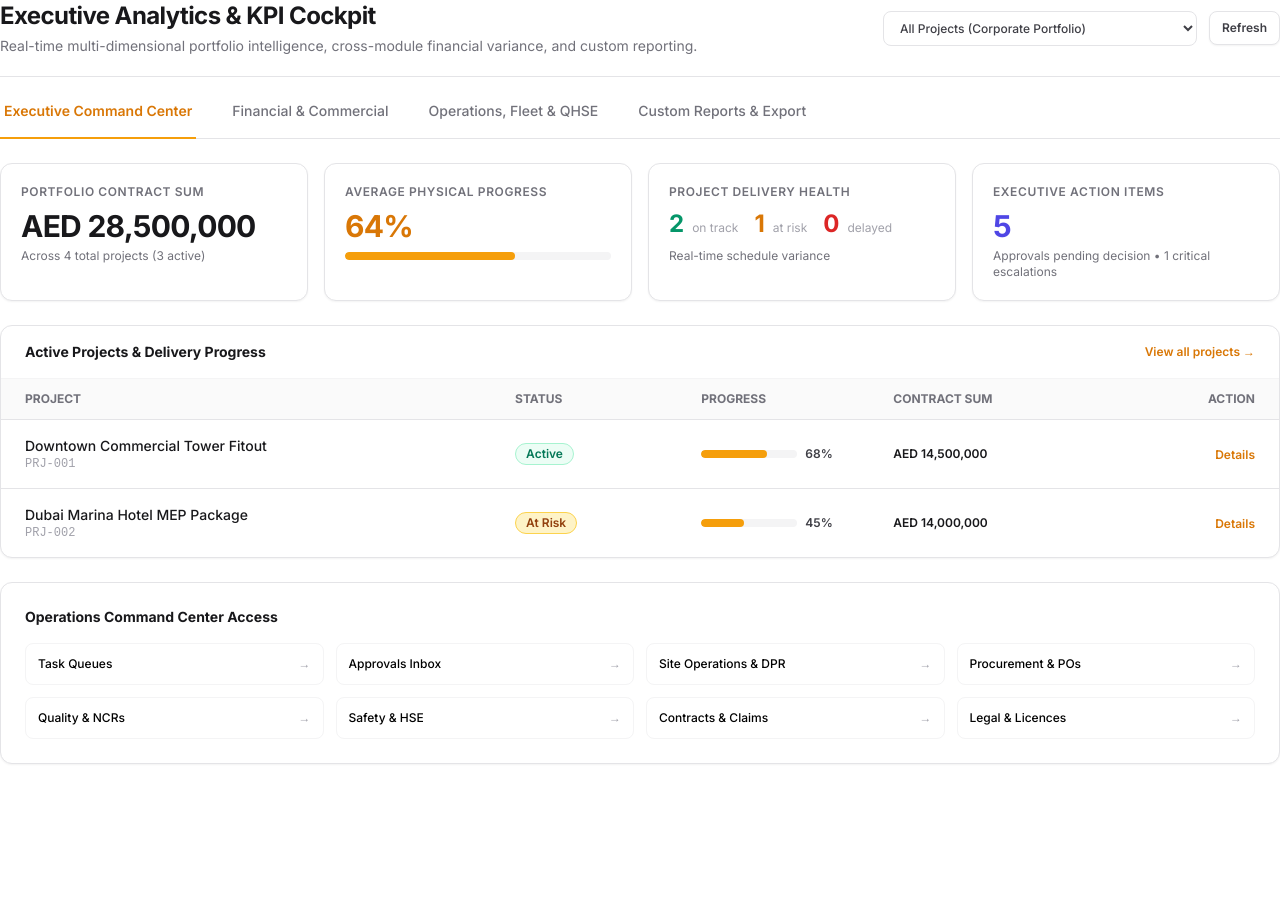
Test case: DashboardPage › navigates to Custom Reports tab and allows generating and saving reports
What coordinates should you click on to do the following:
click the button "Custom Reports & Export"
I would click on:
 (722, 120)
Its box is [634, 101, 810, 139].
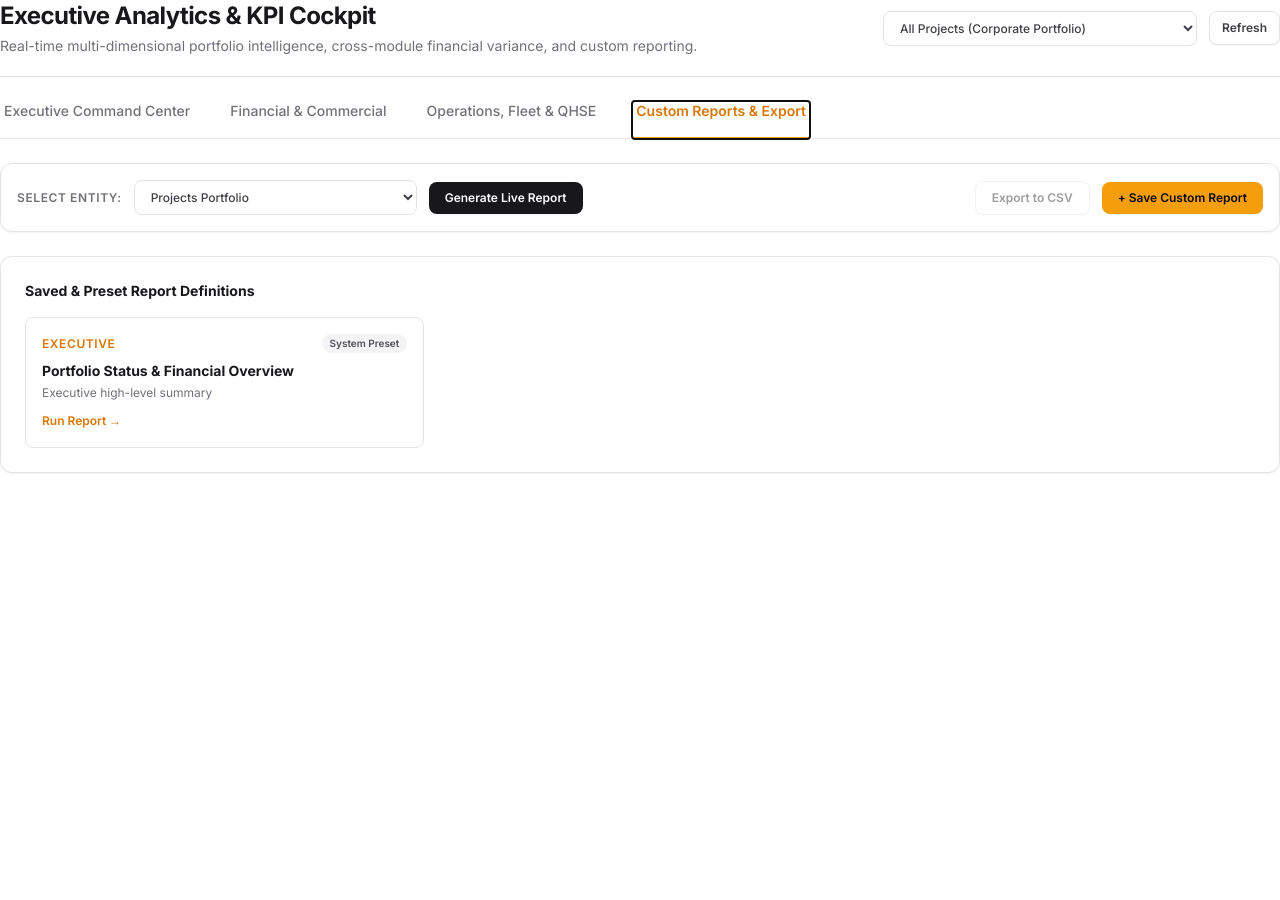
Result: the heading "Portfolio Status & Financial Overview" is shown at [42, 362, 294, 379]
What coordinates should you click on to do the following:
click the button "Generate Live Report"
I would click on:
 (506, 198)
Its box is [429, 182, 583, 214].
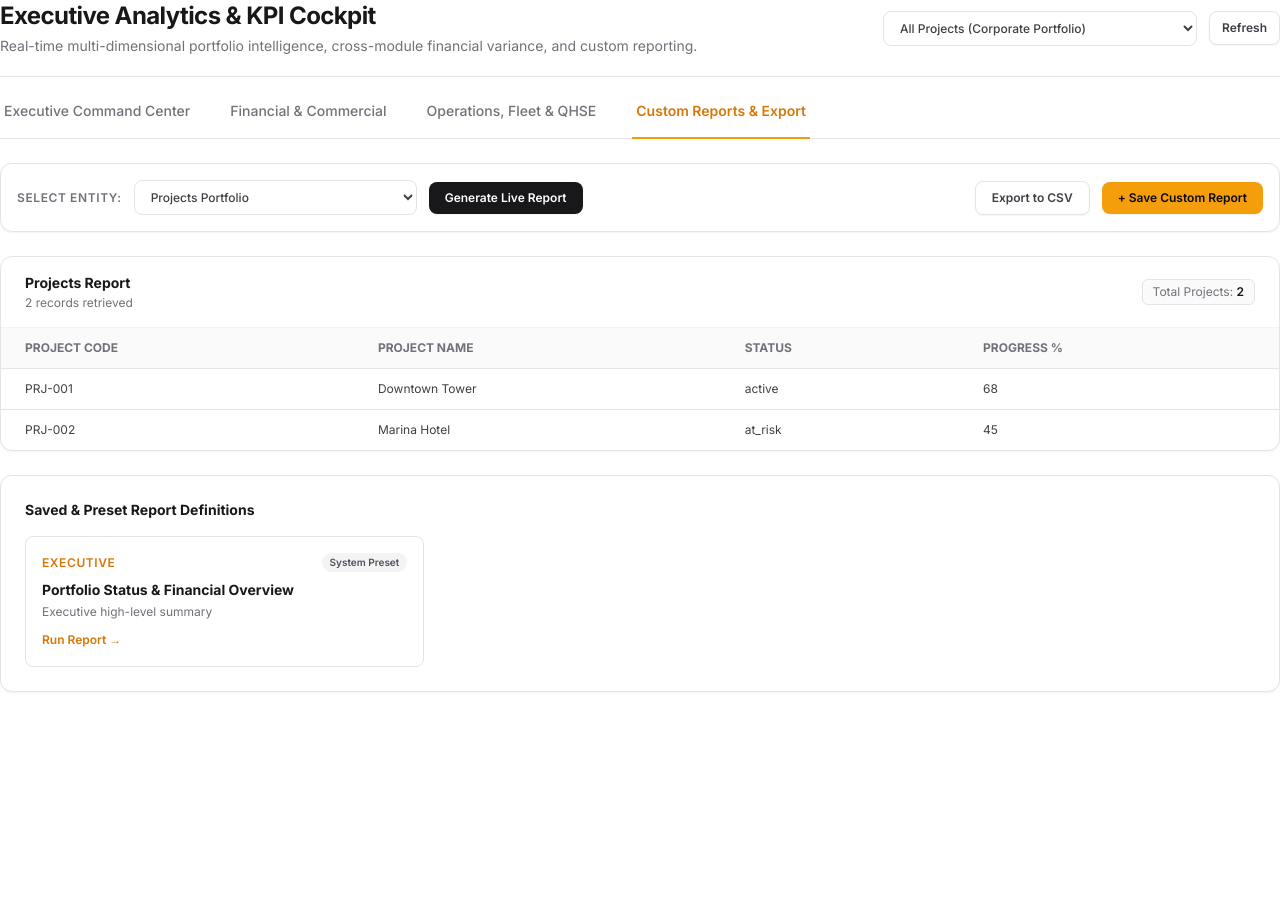
Result: the button "Export to CSV" is shown at [975, 180, 1090, 214]
Result: the text "Downtown Tower" is shown at [354, 368, 721, 410]
Result: the text "Marina Hotel" is shown at [354, 410, 721, 450]
Open Save modal
What coordinates should you click on to do the following:
click the button "+ Save Custom Report"
I would click on:
 (1182, 198)
Its box is [1102, 182, 1263, 214].
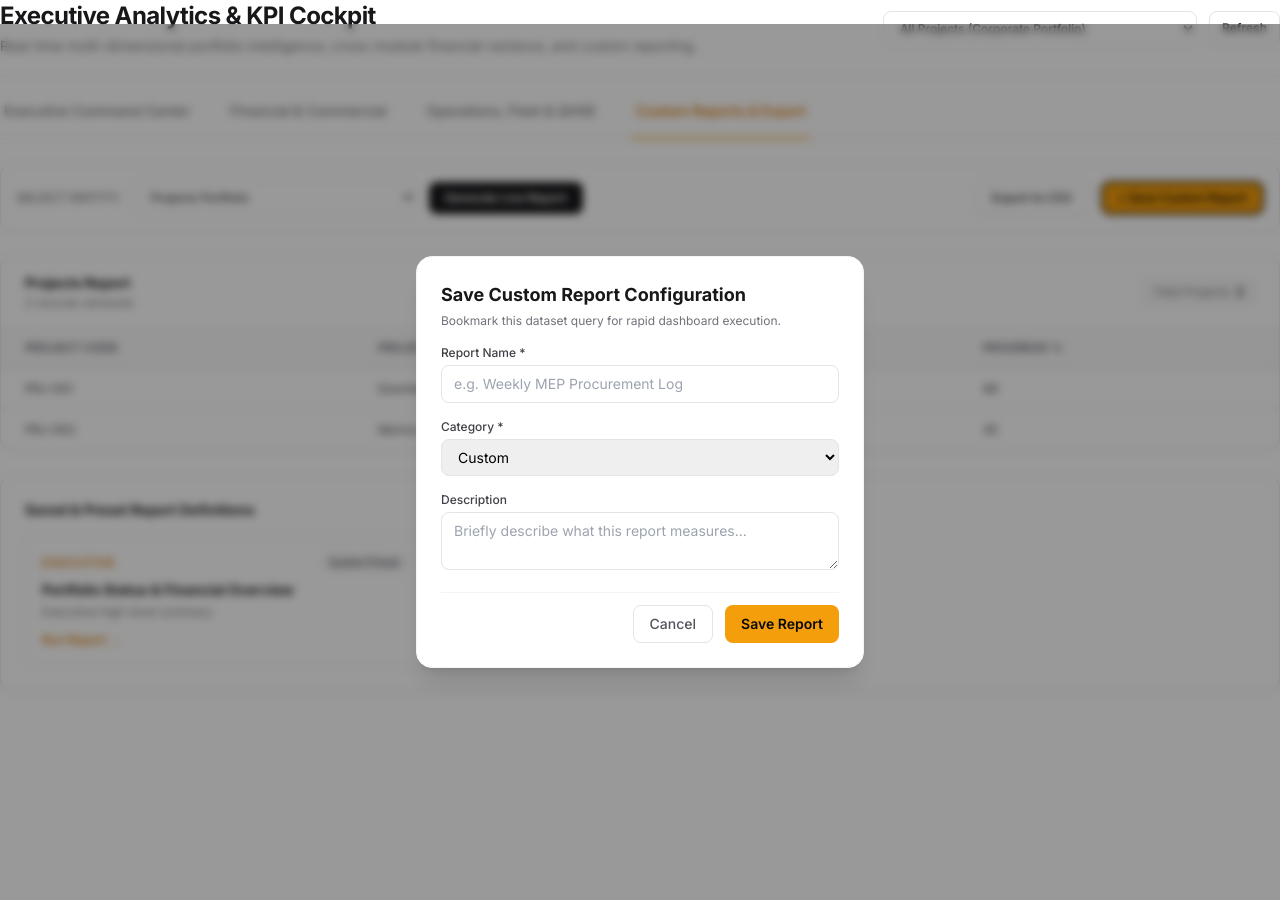
Result: the heading "Save Custom Report Configuration" is shown at [441, 284, 746, 305]
What coordinates should you click on to do the following:
click the button "Cancel"
I would click on:
 (673, 624)
Its box is [633, 605, 713, 643].
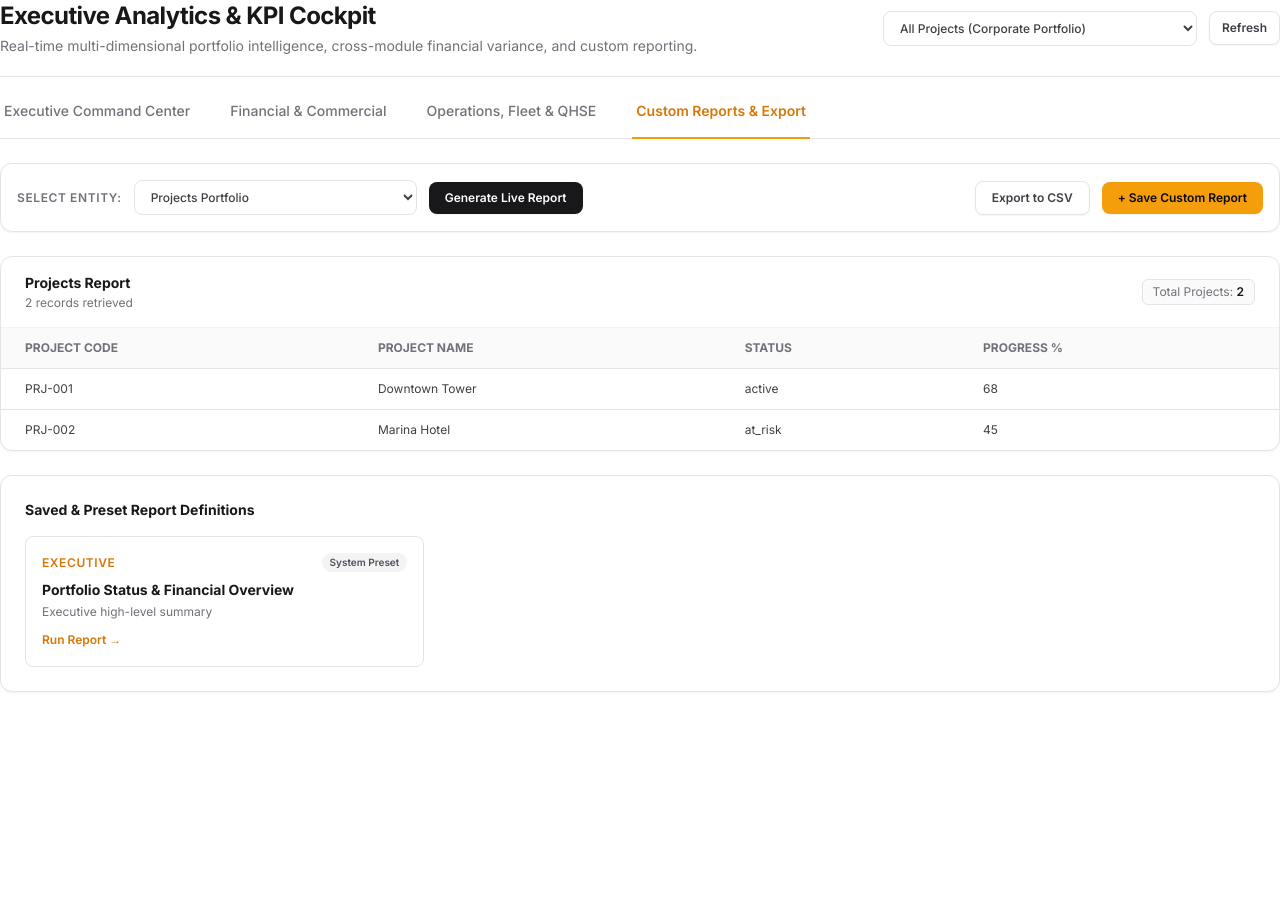
Result: the heading "Save Custom Report Configuration" is gone
